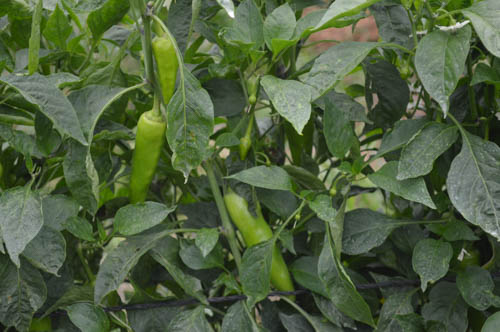ChiliPepper: (225, 184, 294, 302), (127, 116, 164, 203), (154, 37, 180, 104)
